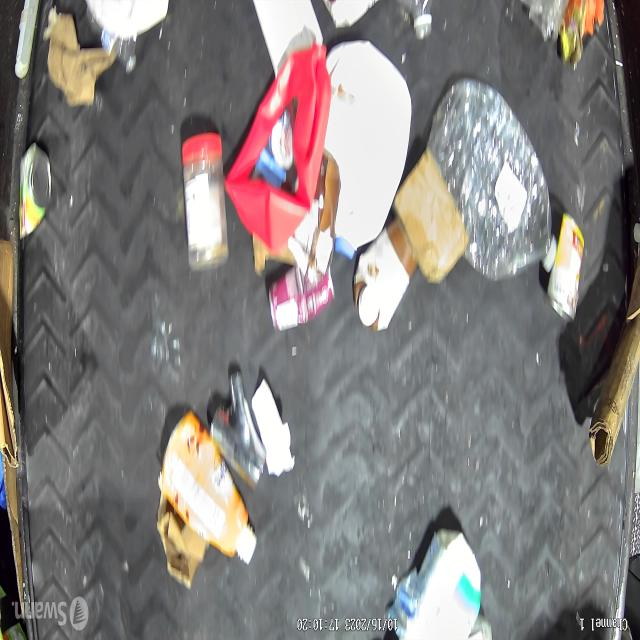can: (17, 137, 49, 246)
milk_jug: (325, 55, 410, 259)
non_white_jug: (229, 28, 328, 244), (156, 408, 254, 575)
plastic_bottle: (436, 88, 557, 283)
